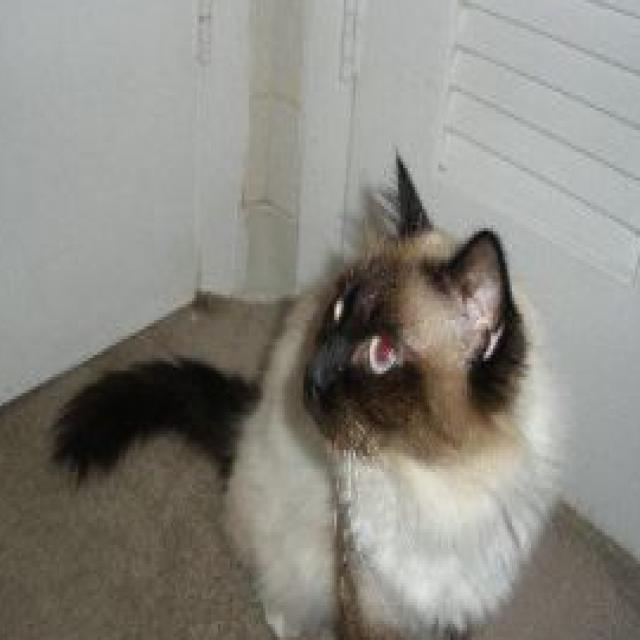Birman: (42, 142, 571, 640)
